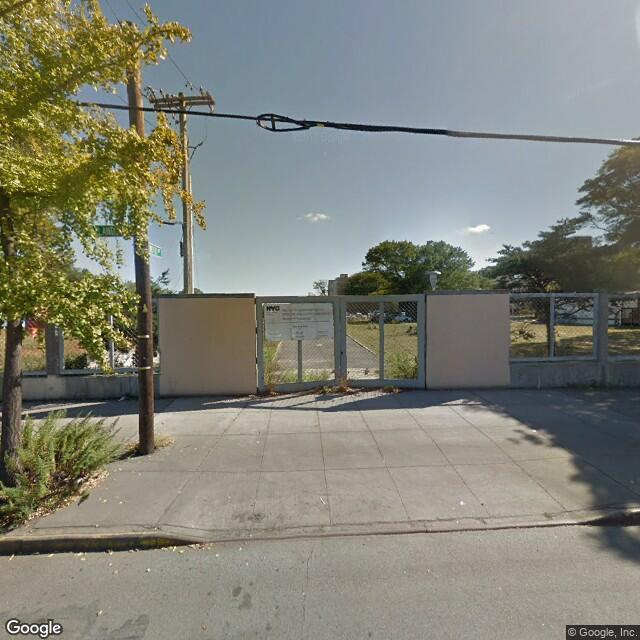litter: (530, 427, 541, 434), (458, 499, 466, 506)
